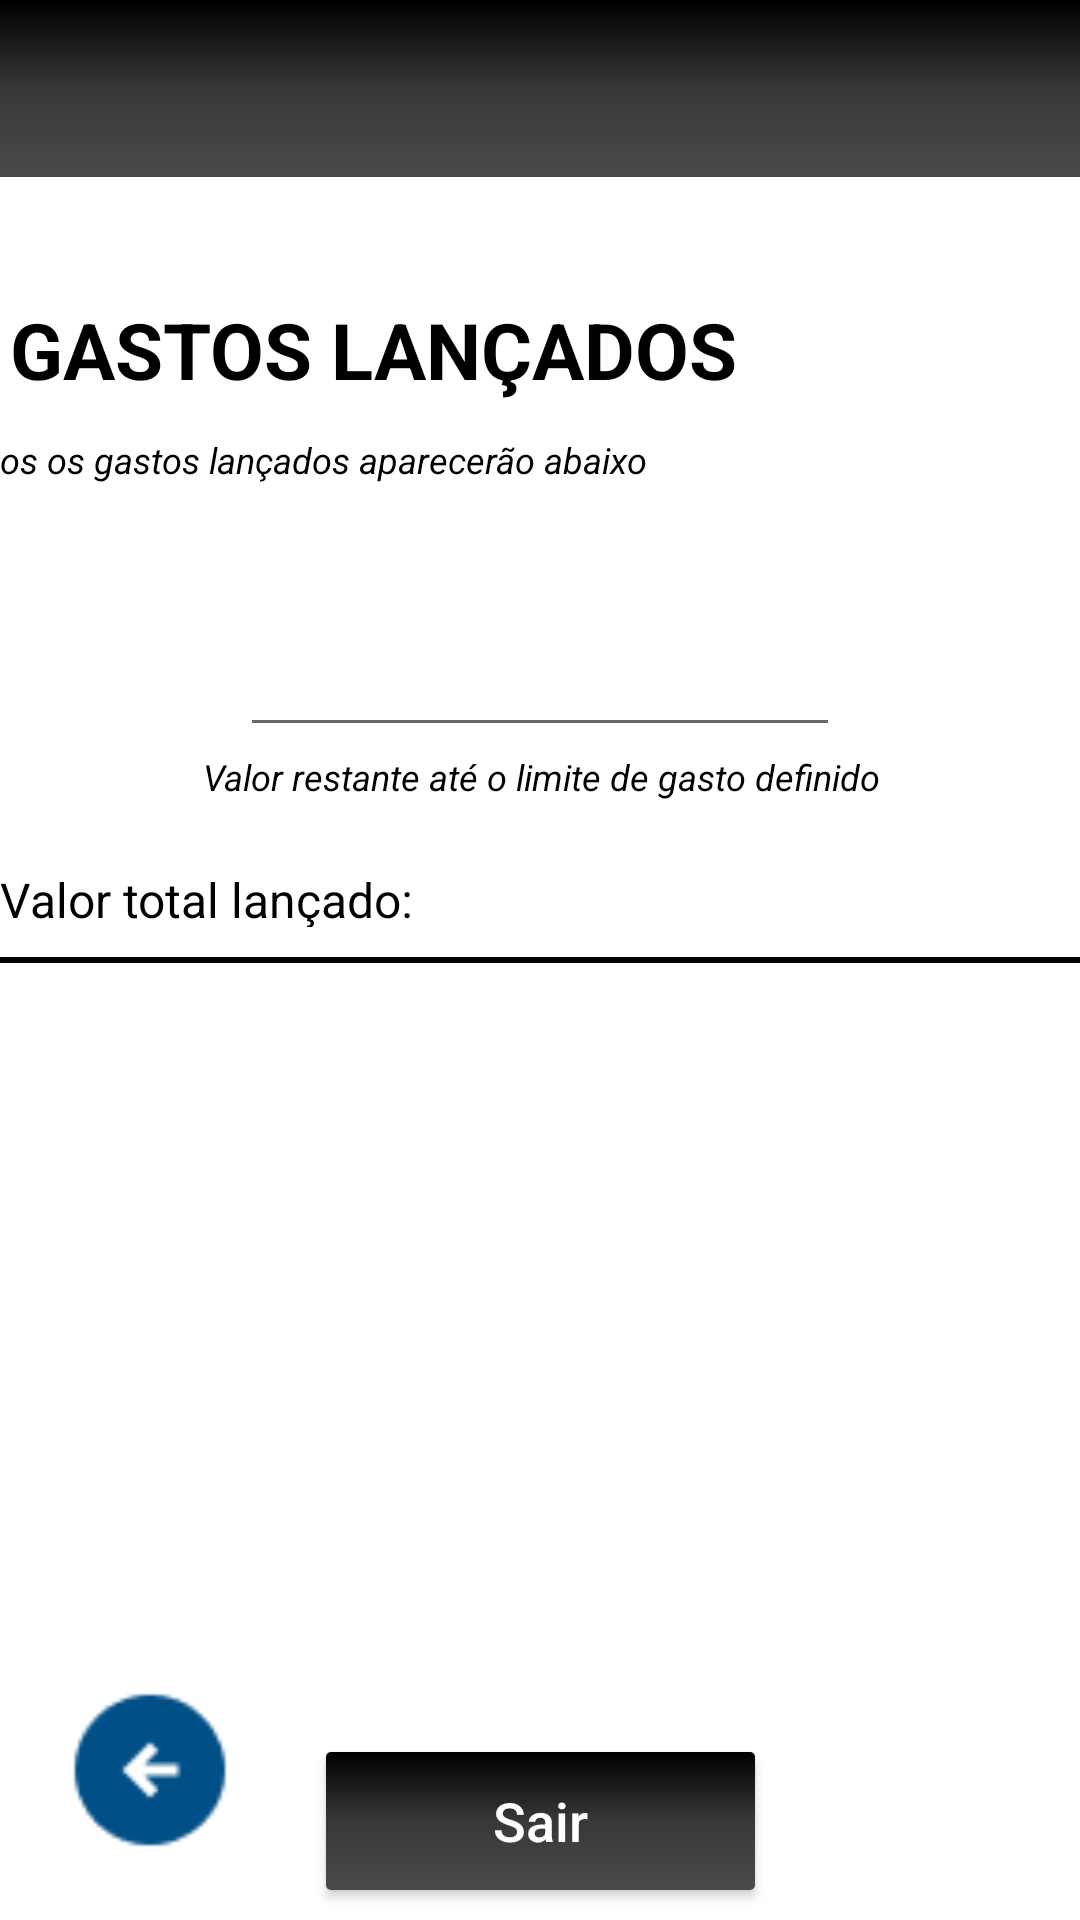

Icons on this 1080×1920 Android screen, each with its box as rect(x1, y1, x2, y2):
left: rect(73, 1693, 227, 1847)
